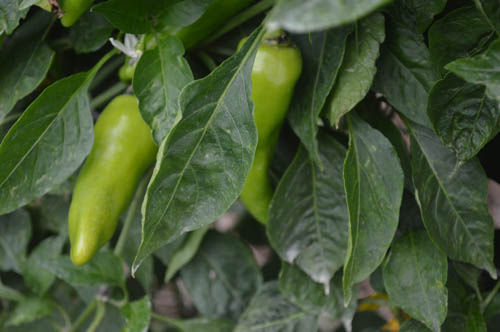ChiliPepper: (67, 96, 157, 268), (229, 41, 303, 231)
